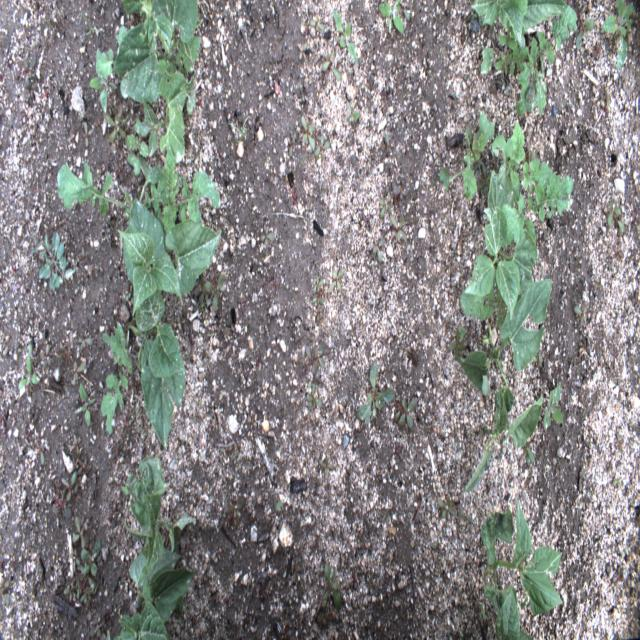crop: (118, 200, 220, 447), (457, 274, 555, 411), (462, 165, 538, 316), (482, 502, 564, 620), (110, 0, 202, 102), (122, 458, 198, 573), (462, 387, 544, 492), (117, 544, 195, 638), (472, 0, 573, 46), (156, 68, 198, 164), (496, 590, 534, 638)
weed: (478, 7, 596, 123), (57, 162, 225, 229), (490, 121, 574, 252), (436, 109, 496, 202), (97, 320, 133, 441), (124, 100, 177, 182), (62, 514, 101, 610), (352, 360, 397, 427), (31, 231, 75, 295), (460, 285, 520, 331), (602, 2, 636, 75), (87, 43, 114, 114), (298, 120, 330, 167), (54, 465, 78, 527), (18, 329, 41, 393), (333, 13, 359, 67), (73, 382, 98, 434), (447, 320, 472, 371), (379, 3, 408, 41), (322, 566, 342, 620), (606, 193, 626, 246), (206, 266, 228, 314), (544, 384, 566, 429), (310, 273, 329, 323), (102, 109, 126, 148), (319, 51, 345, 86), (394, 396, 421, 428), (72, 437, 92, 479), (304, 334, 327, 370), (38, 328, 55, 375), (389, 212, 411, 247), (434, 494, 455, 530), (573, 300, 599, 328), (20, 51, 38, 89), (304, 382, 326, 412), (74, 114, 90, 153), (222, 494, 246, 520), (328, 262, 346, 296), (74, 319, 95, 348), (70, 360, 90, 386), (369, 235, 385, 265), (20, 411, 34, 444), (0, 569, 11, 610), (257, 223, 275, 247), (345, 102, 363, 124), (297, 39, 310, 68), (36, 436, 46, 472), (309, 12, 324, 35), (378, 194, 391, 220), (604, 90, 616, 118), (392, 181, 410, 198), (458, 508, 473, 528), (287, 125, 296, 156), (525, 450, 536, 470)
